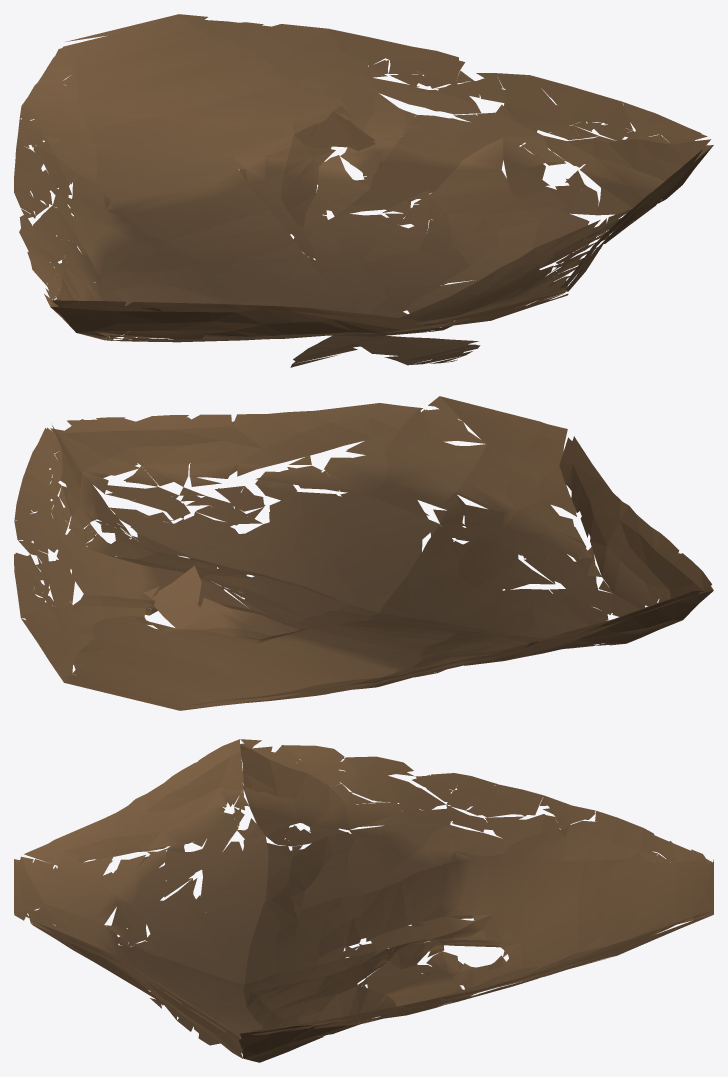
File: floating_rock.glb
The picture shows the model from 3 angles, top to bottom: view 1: azimuth 30°, elevation 25°; view 2: azimuth 150°, elevation 25°; view 3: azimuth 270°, elevation 25°; orthographic projection. The views are drawn at different scales.
Visible parts, largest first — view 1: world; view 2: world; view 3: world.
Part boxes in pixels (x1,y1,x2,y2): world: [14, 14, 713, 367]; world: [14, 396, 713, 710]; world: [14, 739, 713, 1062].
Bounding box in the file's own units: 1.98 × 0.4369 × 1.98.
